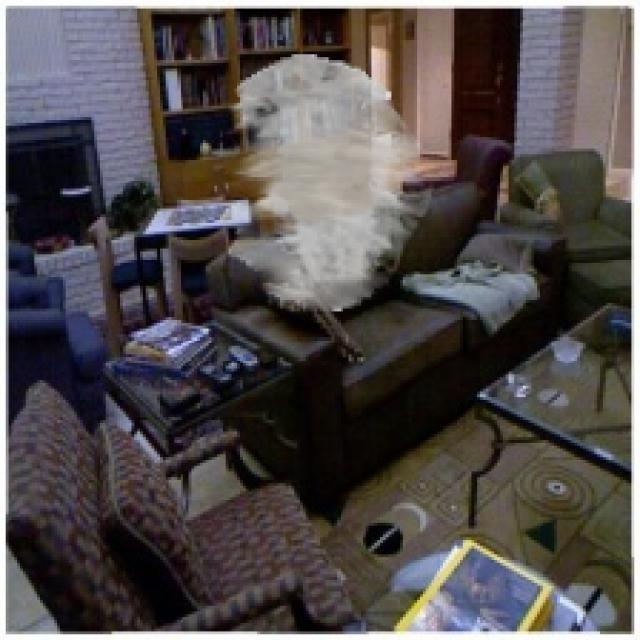smoke: (220, 55, 426, 312)
